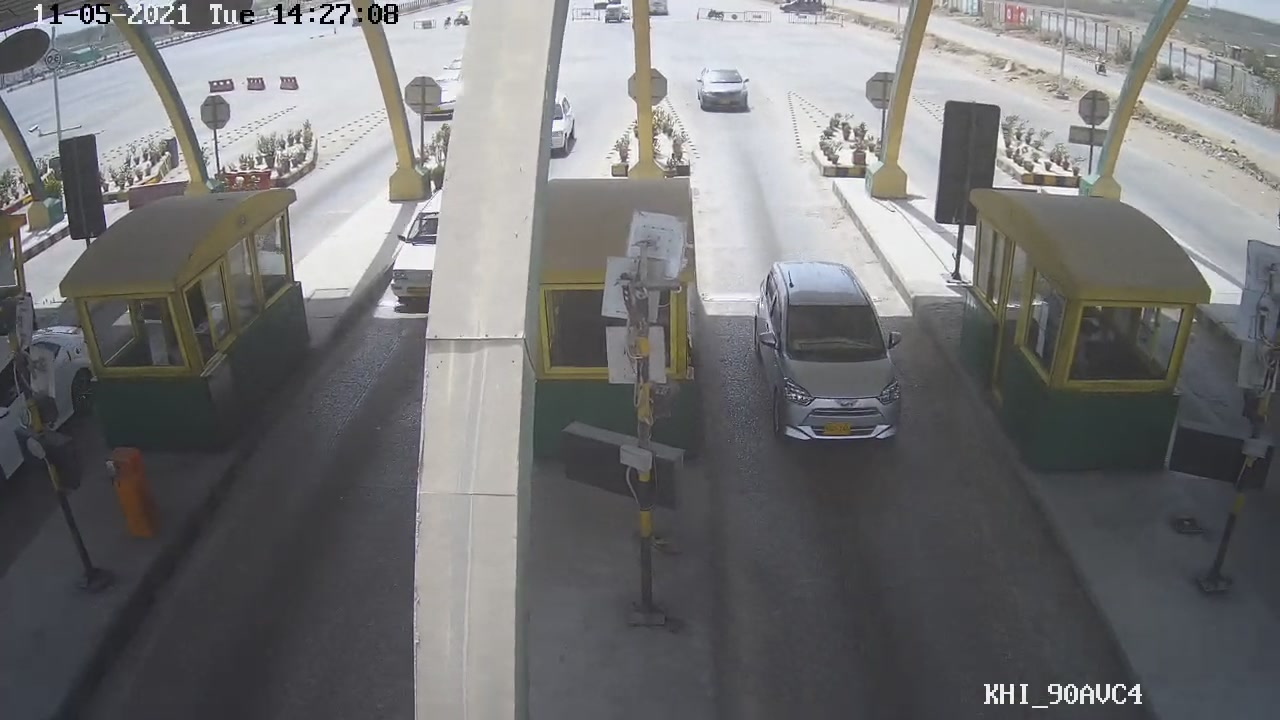F1: (747, 261, 911, 455)
